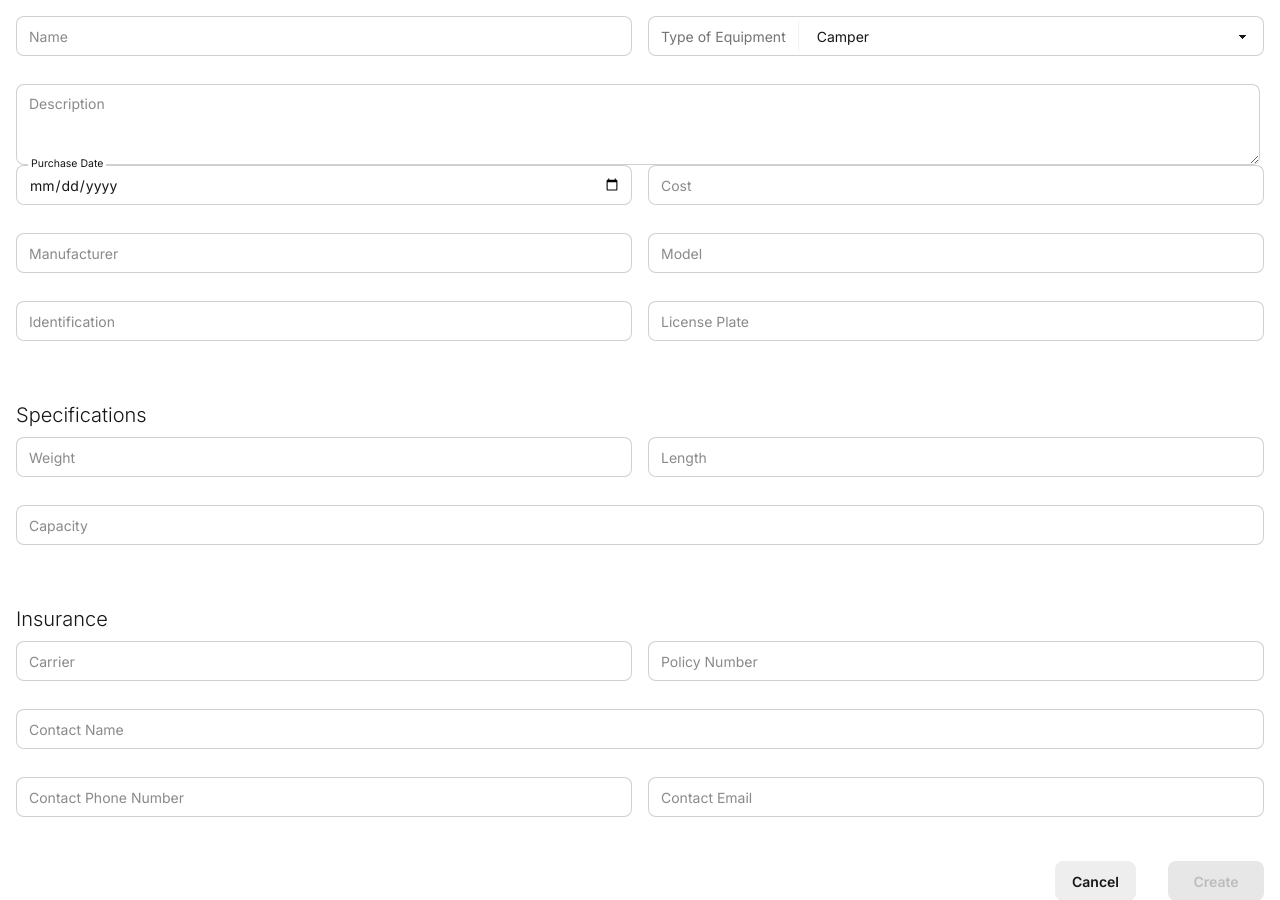
Test: Equipment Editor › name input › required error › is no longer displayed after text entry
The image size is (1280, 900).
Click the field labelled "Name".
click(324, 36)  # box [16,16,632,56]
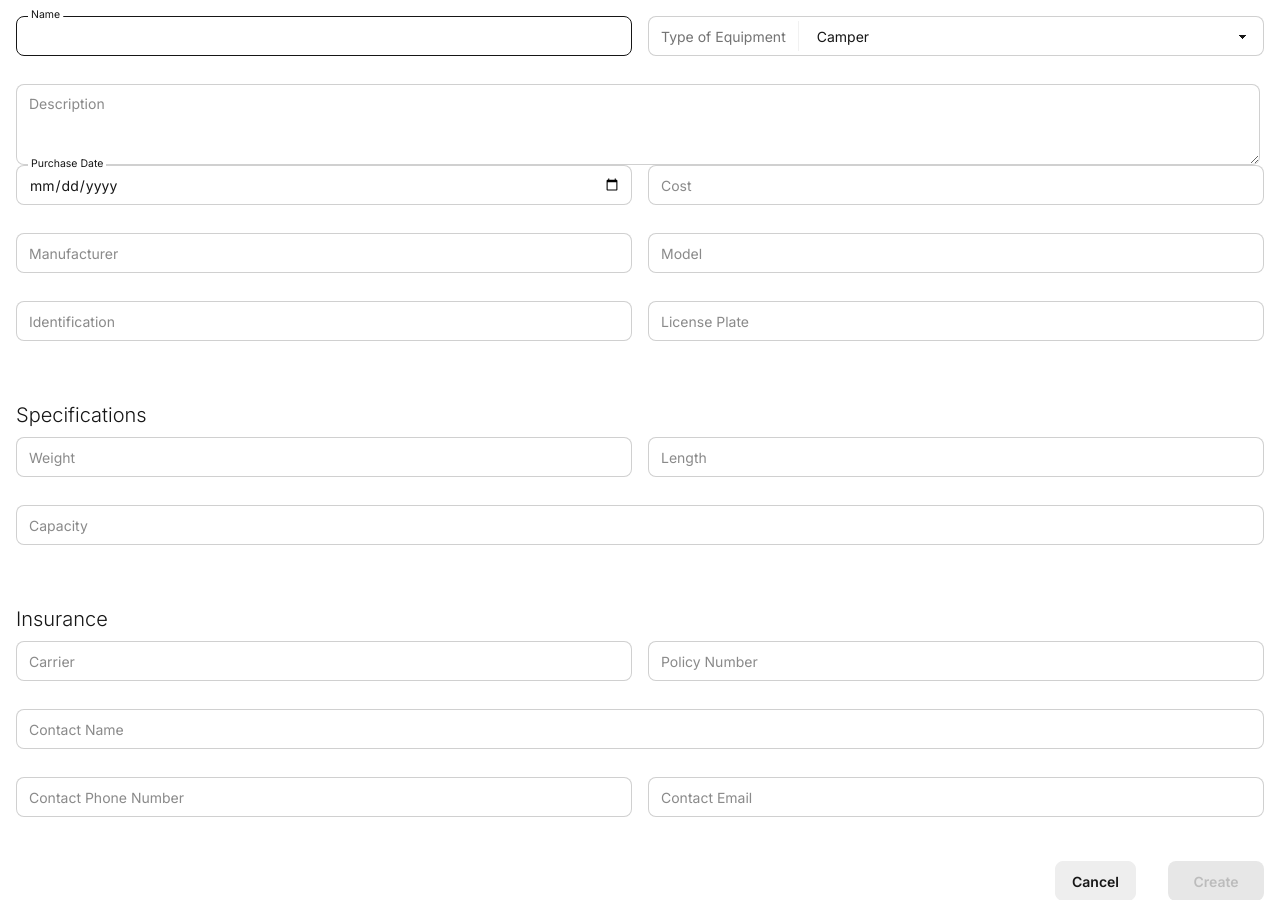
Press Tab
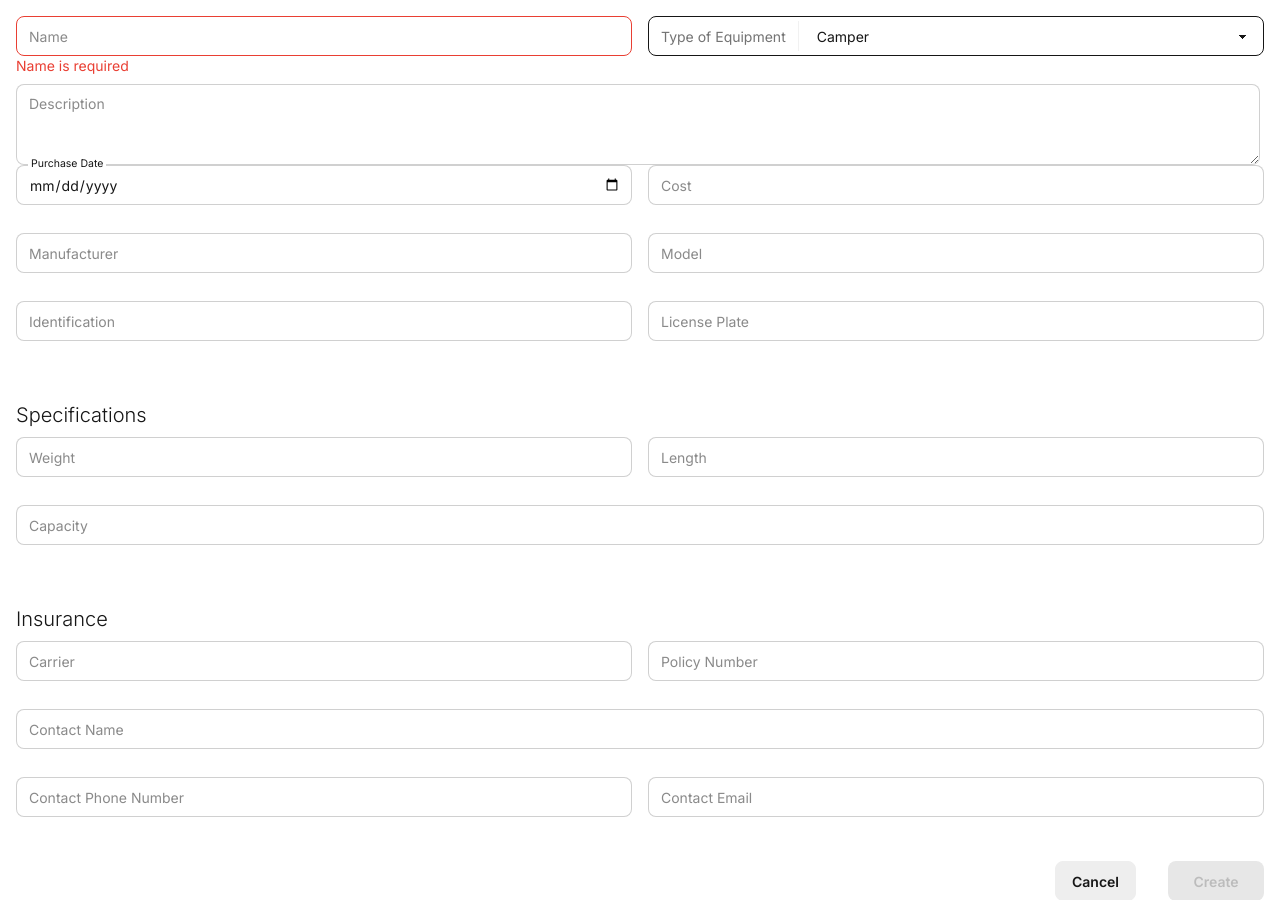
Expected: the text "Name is required" is shown, [16,57,129,74]
Type "f" into the field labelled "Name".
click(324, 36); type("f")  # box [16,16,632,56]
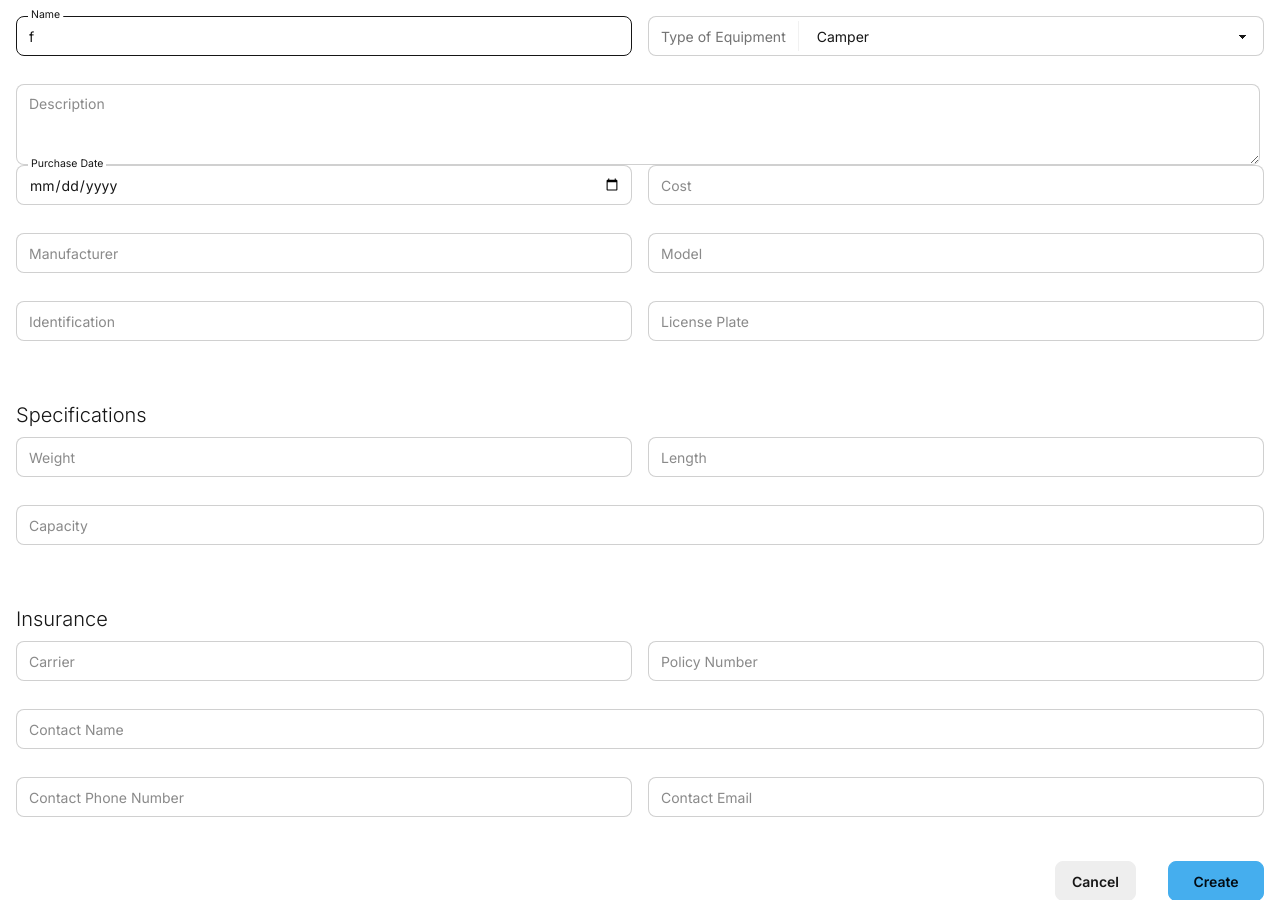
Expected: the text "Name is required" is gone
